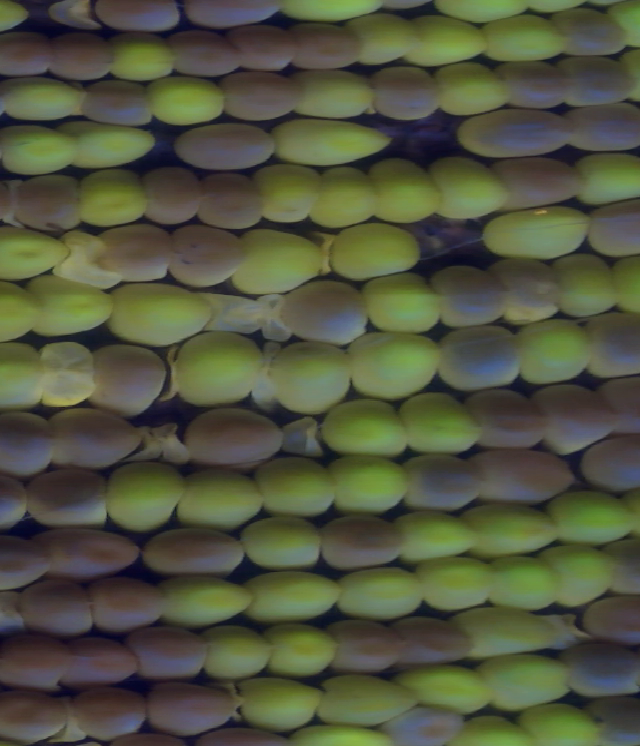fluorescent: (167, 325, 270, 415), (263, 110, 403, 171), (97, 278, 218, 348), (475, 200, 596, 269), (15, 266, 121, 343), (98, 455, 194, 540), (224, 227, 335, 300), (342, 328, 449, 403), (450, 497, 566, 566), (264, 335, 358, 420), (414, 148, 517, 223), (311, 668, 426, 733), (503, 313, 598, 391), (312, 392, 413, 465), (247, 449, 342, 526), (171, 466, 271, 539), (396, 387, 492, 463), (470, 652, 581, 717), (317, 447, 413, 522), (535, 485, 640, 553), (323, 218, 427, 286), (361, 151, 449, 231), (454, 600, 562, 665), (382, 506, 490, 570), (239, 563, 348, 626), (530, 537, 622, 611), (541, 247, 626, 325), (229, 673, 332, 737), (281, 64, 387, 126), (358, 265, 448, 338), (331, 562, 433, 626), (410, 551, 505, 619), (390, 659, 497, 719), (54, 115, 161, 175), (477, 552, 570, 620), (151, 569, 257, 628), (478, 10, 583, 69), (69, 164, 157, 234), (234, 510, 333, 572), (0, 119, 92, 185), (248, 159, 332, 231), (425, 56, 517, 121), (396, 10, 496, 69), (193, 618, 280, 685), (137, 71, 235, 130), (333, 9, 430, 68), (256, 615, 344, 678), (98, 24, 182, 88), (305, 165, 384, 232), (0, 71, 93, 124), (0, 223, 76, 283), (512, 697, 603, 746), (570, 148, 640, 211), (0, 338, 55, 417), (0, 273, 51, 348), (438, 710, 533, 746), (282, 721, 393, 746), (606, 247, 640, 327), (608, 42, 640, 107), (601, 1, 640, 52), (0, 1, 35, 40)
nonfluorescent: (178, 402, 297, 473), (463, 442, 585, 509), (525, 378, 624, 458), (135, 519, 248, 589), (428, 322, 529, 398), (77, 339, 171, 420), (271, 276, 374, 349), (458, 383, 558, 458), (166, 115, 285, 177), (479, 151, 594, 215), (136, 670, 242, 739), (43, 402, 146, 473), (454, 105, 580, 162), (391, 446, 492, 517), (381, 607, 484, 675), (17, 462, 118, 531), (480, 252, 568, 330), (160, 219, 254, 291), (38, 523, 145, 585), (76, 570, 175, 637), (424, 259, 516, 331), (552, 633, 640, 707), (318, 613, 416, 679), (312, 508, 409, 573), (14, 574, 101, 646), (117, 621, 215, 683), (63, 678, 156, 742), (360, 62, 449, 128), (91, 221, 180, 287), (56, 633, 148, 694), (129, 161, 209, 231), (214, 66, 307, 126), (551, 52, 640, 114), (8, 171, 88, 239), (284, 16, 371, 77), (187, 169, 269, 233), (575, 302, 640, 382), (546, 4, 634, 63), (217, 19, 306, 77), (0, 626, 76, 693), (160, 24, 247, 82), (559, 99, 640, 157), (0, 408, 66, 479), (488, 58, 573, 113), (0, 683, 74, 746), (79, 76, 156, 132), (42, 29, 118, 85), (577, 431, 640, 498), (374, 703, 469, 746), (581, 195, 640, 262), (86, 1, 187, 40), (0, 532, 58, 599), (575, 589, 640, 648), (178, 1, 286, 36), (590, 370, 640, 442), (597, 530, 640, 606), (0, 27, 60, 81), (582, 693, 640, 746), (0, 469, 34, 535)
